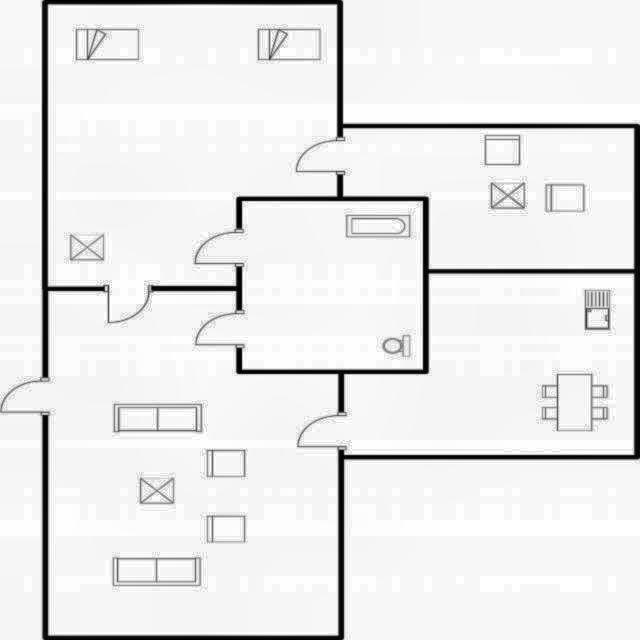room: (49, 291, 338, 636), (48, 4, 337, 287), (343, 273, 635, 456), (342, 128, 634, 269), (242, 201, 424, 370)
